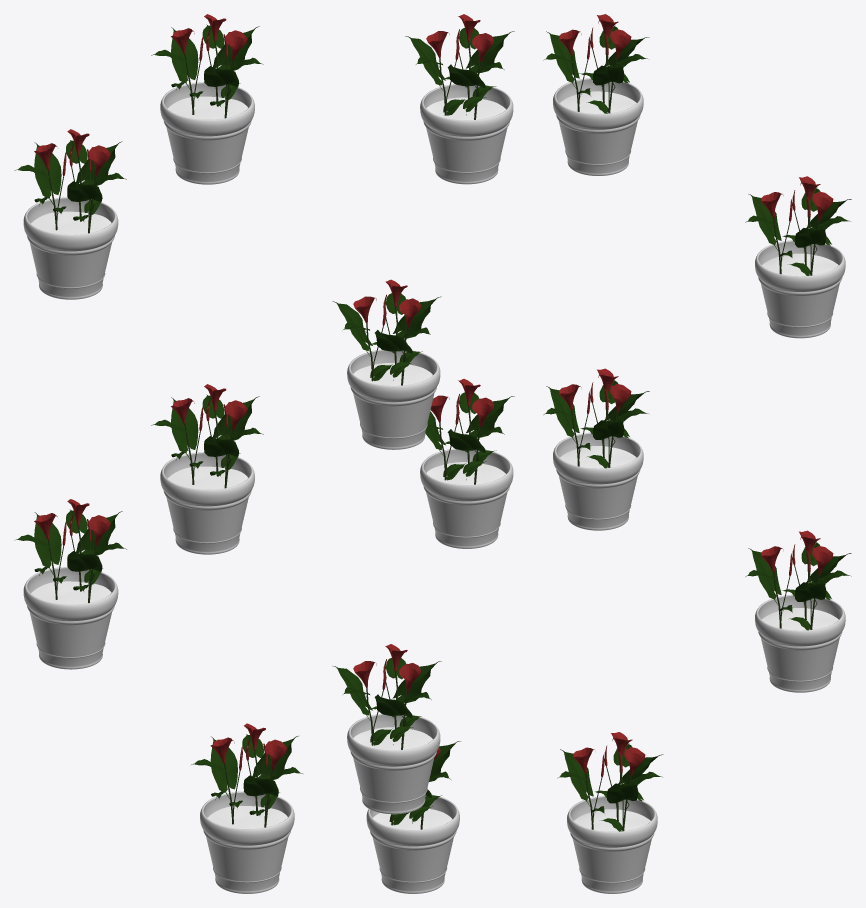
File: Room4-Flower6.glb
3 views of the same model, side by side, from view 1: azimuth 30°, elevation 25°; view 2: azimuth 150°, elevation 25°; view 3: azimuth 270°, elevation 25° (orthographic). The views are drawn at different scales.
Visible parts, largest first — view 1: Plant_Pot_Plant_Pot_M_0.021, Plant_Pot_Plant_Pot_M_0.020, Plant_Pot_Plant_Pot_M_0.057, Plant_Pot_Plant_Pot_M_0.018, Plant_Pot_Plant_Pot_M_0.019; view 2: Plant_Pot_Plant_Pot_M_0.019, Plant_Pot_Plant_Pot_M_0.020, Plant_Pot_Plant_Pot_M_0.021, Plant_Pot_Plant_Pot_M_0.018, Plant_Pot_Plant_Pot_M_0.057; view 3: Plant_Pot_Plant_Pot_M_0.018, Plant_Pot_Plant_Pot_M_0.020, Plant_Pot_Plant_Pot_M_0.021, Plant_Pot_Plant_Pot_M_0.019, Plant_Pot_Plant_Pot_M_0.057.
Part boxes in pixels (bbox=[...]): Plant_Pot_Plant_Pot_M_0.021: bbox=[14, 499, 126, 669]; Plant_Pot_Plant_Pot_M_0.020: bbox=[14, 129, 126, 299]; Plant_Pot_Plant_Pot_M_0.057: bbox=[191, 723, 302, 893]; Plant_Pot_Plant_Pot_M_0.018: bbox=[151, 384, 263, 554]; Plant_Pot_Plant_Pot_M_0.019: bbox=[151, 14, 263, 184]; Plant_Pot_Plant_Pot_M_0.019: bbox=[405, 14, 514, 184]; Plant_Pot_Plant_Pot_M_0.020: bbox=[332, 279, 441, 449]; Plant_Pot_Plant_Pot_M_0.021: bbox=[333, 644, 441, 814]; Plant_Pot_Plant_Pot_M_0.018: bbox=[420, 379, 514, 548]; Plant_Pot_Plant_Pot_M_0.057: bbox=[366, 741, 460, 893]; Plant_Pot_Plant_Pot_M_0.018: bbox=[543, 368, 649, 530]; Plant_Pot_Plant_Pot_M_0.020: bbox=[745, 176, 851, 338]; Plant_Pot_Plant_Pot_M_0.021: bbox=[745, 530, 851, 692]; Plant_Pot_Plant_Pot_M_0.019: bbox=[543, 14, 649, 175]; Plant_Pot_Plant_Pot_M_0.057: bbox=[557, 732, 663, 893].
Bounding box in the file's own units: 3.17 × 14.35 × 4.81.
